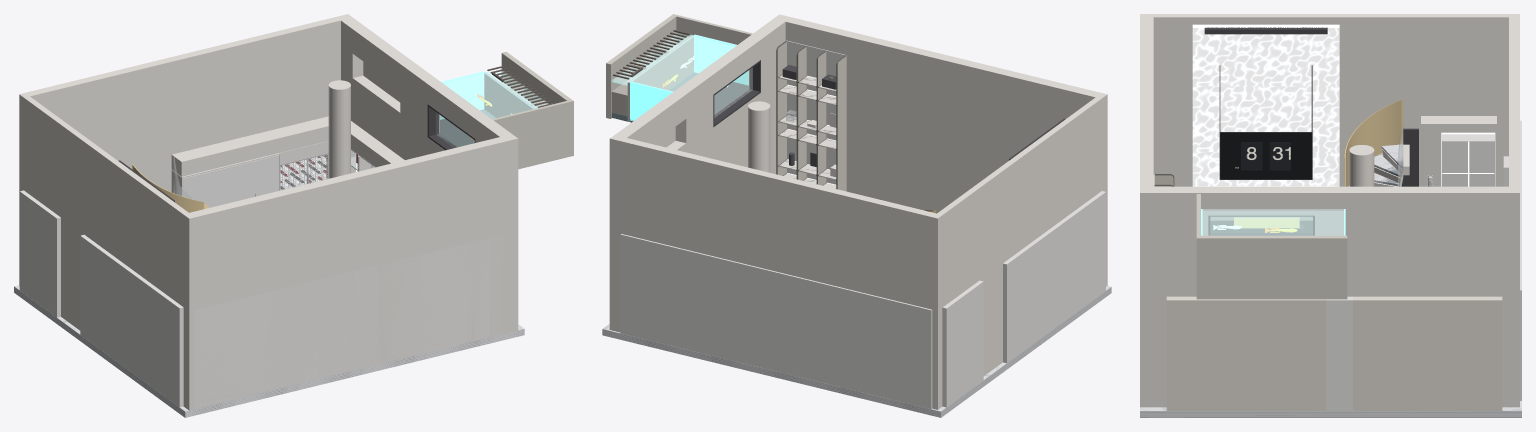
3 renders of one model, left to right at view 1: azimuth 30°, elevation 25°; view 2: azimuth 150°, elevation 25°; view 3: azimuth 270°, elevation 25°, orthographic. The views are drawn at different scales.
Parts seen in each view (by area): view 1: B2_Wall_South_Full, B2_Base_Walls_Manifold, B2_Wall_North_Full, B2_Wall_West_Full, B2_Wall_East_Lower, B2_UnderMezz_Soffit_North, B2_Floor_Slab, B2_FishPond_Tank_SideS, B2_Wall_East_Upper_South, B2_Wall_East_Upper_North, B2_B1_Main_Column, B2_FishPond_Tank_Surface (+19 smaller); view 2: B2_Base_Walls_Manifold, B2_Wall_North_Full, B2_Wall_South_Full, B2_Wall_West_Full, B2_Wall_East_Lower, B2_Floor_Slab, B2_Wall_East_Upper_South, B2_FishPond_Tank_Surface, B2_TallCab_WhiteBack, B2_Wall_East_Upper_North, B2_FishPond_Tank_Back, B2_FishPond_Filter_WeirWall (+17 smaller); view 3: B2_Base_Walls_Manifold, B2_Wall_West_Full, B2_Wall_East_OuterBack_N, B2_TV_Wall_Sculpted, B2_FishPond_Tank_Back, B2_Wall_East_OuterBack_S, B2_TV_Screen_831, B2_FishPond_Tank_Surface, B2_Floor_Slab, B2_Wall_East_OuterBack_T, B2_Wall_South_Full, B2_GrandStair_RightGoldPlate (+14 smaller).
Part boxes in pixels (box(x1,y1,x2,y2)): B2_Wall_South_Full: box(183, 136, 510, 410); B2_Base_Walls_Manifold: box(19, 190, 506, 408); B2_Wall_North_Full: box(19, 16, 344, 271); B2_Wall_West_Full: box(19, 93, 194, 410); B2_Wall_East_Lower: box(341, 74, 516, 333); B2_UnderMezz_Soffit_North: box(171, 116, 328, 176); B2_Floor_Slab: box(14, 285, 524, 417); B2_FishPond_Tank_SideS: box(492, 101, 573, 169); B2_Wall_East_Upper_South: box(410, 69, 516, 161); B2_Wall_East_Upper_North: box(337, 14, 420, 95); B2_B1_Main_Column: box(328, 80, 350, 178); B2_FishPond_Tank_Surface: box(442, 72, 533, 118); B2_Base_Walls_Manifold: box(620, 191, 1105, 408); B2_Wall_North_Full: box(617, 137, 942, 409); B2_Wall_South_Full: box(785, 17, 1107, 284); B2_Wall_West_Full: box(932, 93, 1107, 409); B2_Wall_East_Lower: box(611, 82, 776, 332); B2_Floor_Slab: box(602, 286, 1111, 417); B2_Wall_East_Upper_South: box(686, 15, 790, 106); B2_FishPond_Tank_Surface: box(631, 35, 736, 91); B2_TallCab_WhiteBack: box(786, 40, 846, 184); B2_Wall_East_Upper_North: box(611, 84, 696, 164); B2_FishPond_Tank_Back: box(606, 14, 677, 118); B2_FishPond_Filter_WeirWall: box(627, 35, 693, 121); B2_Base_Walls_Manifold: box(1166, 120, 1521, 410); B2_Wall_West_Full: box(1140, 14, 1519, 220); B2_Wall_East_OuterBack_N: box(1315, 192, 1519, 407); B2_TV_Wall_Sculpted: box(1192, 24, 1339, 186); B2_FishPond_Tank_Back: box(1196, 235, 1347, 299); B2_Wall_East_OuterBack_S: box(1140, 192, 1208, 407); B2_TV_Screen_831: box(1220, 133, 1311, 179); B2_FishPond_Tank_Surface: box(1201, 209, 1344, 235); B2_Floor_Slab: box(1140, 401, 1521, 417); B2_Wall_East_OuterBack_T: box(1208, 192, 1314, 215); B2_Wall_South_Full: box(1140, 14, 1153, 187); B2_GrandStair_RightGoldPlate: box(1344, 99, 1403, 186).
Bounding box in the file's own units: 10.27 × 4.7 × 7.35.
49 materials, 7 textured.
